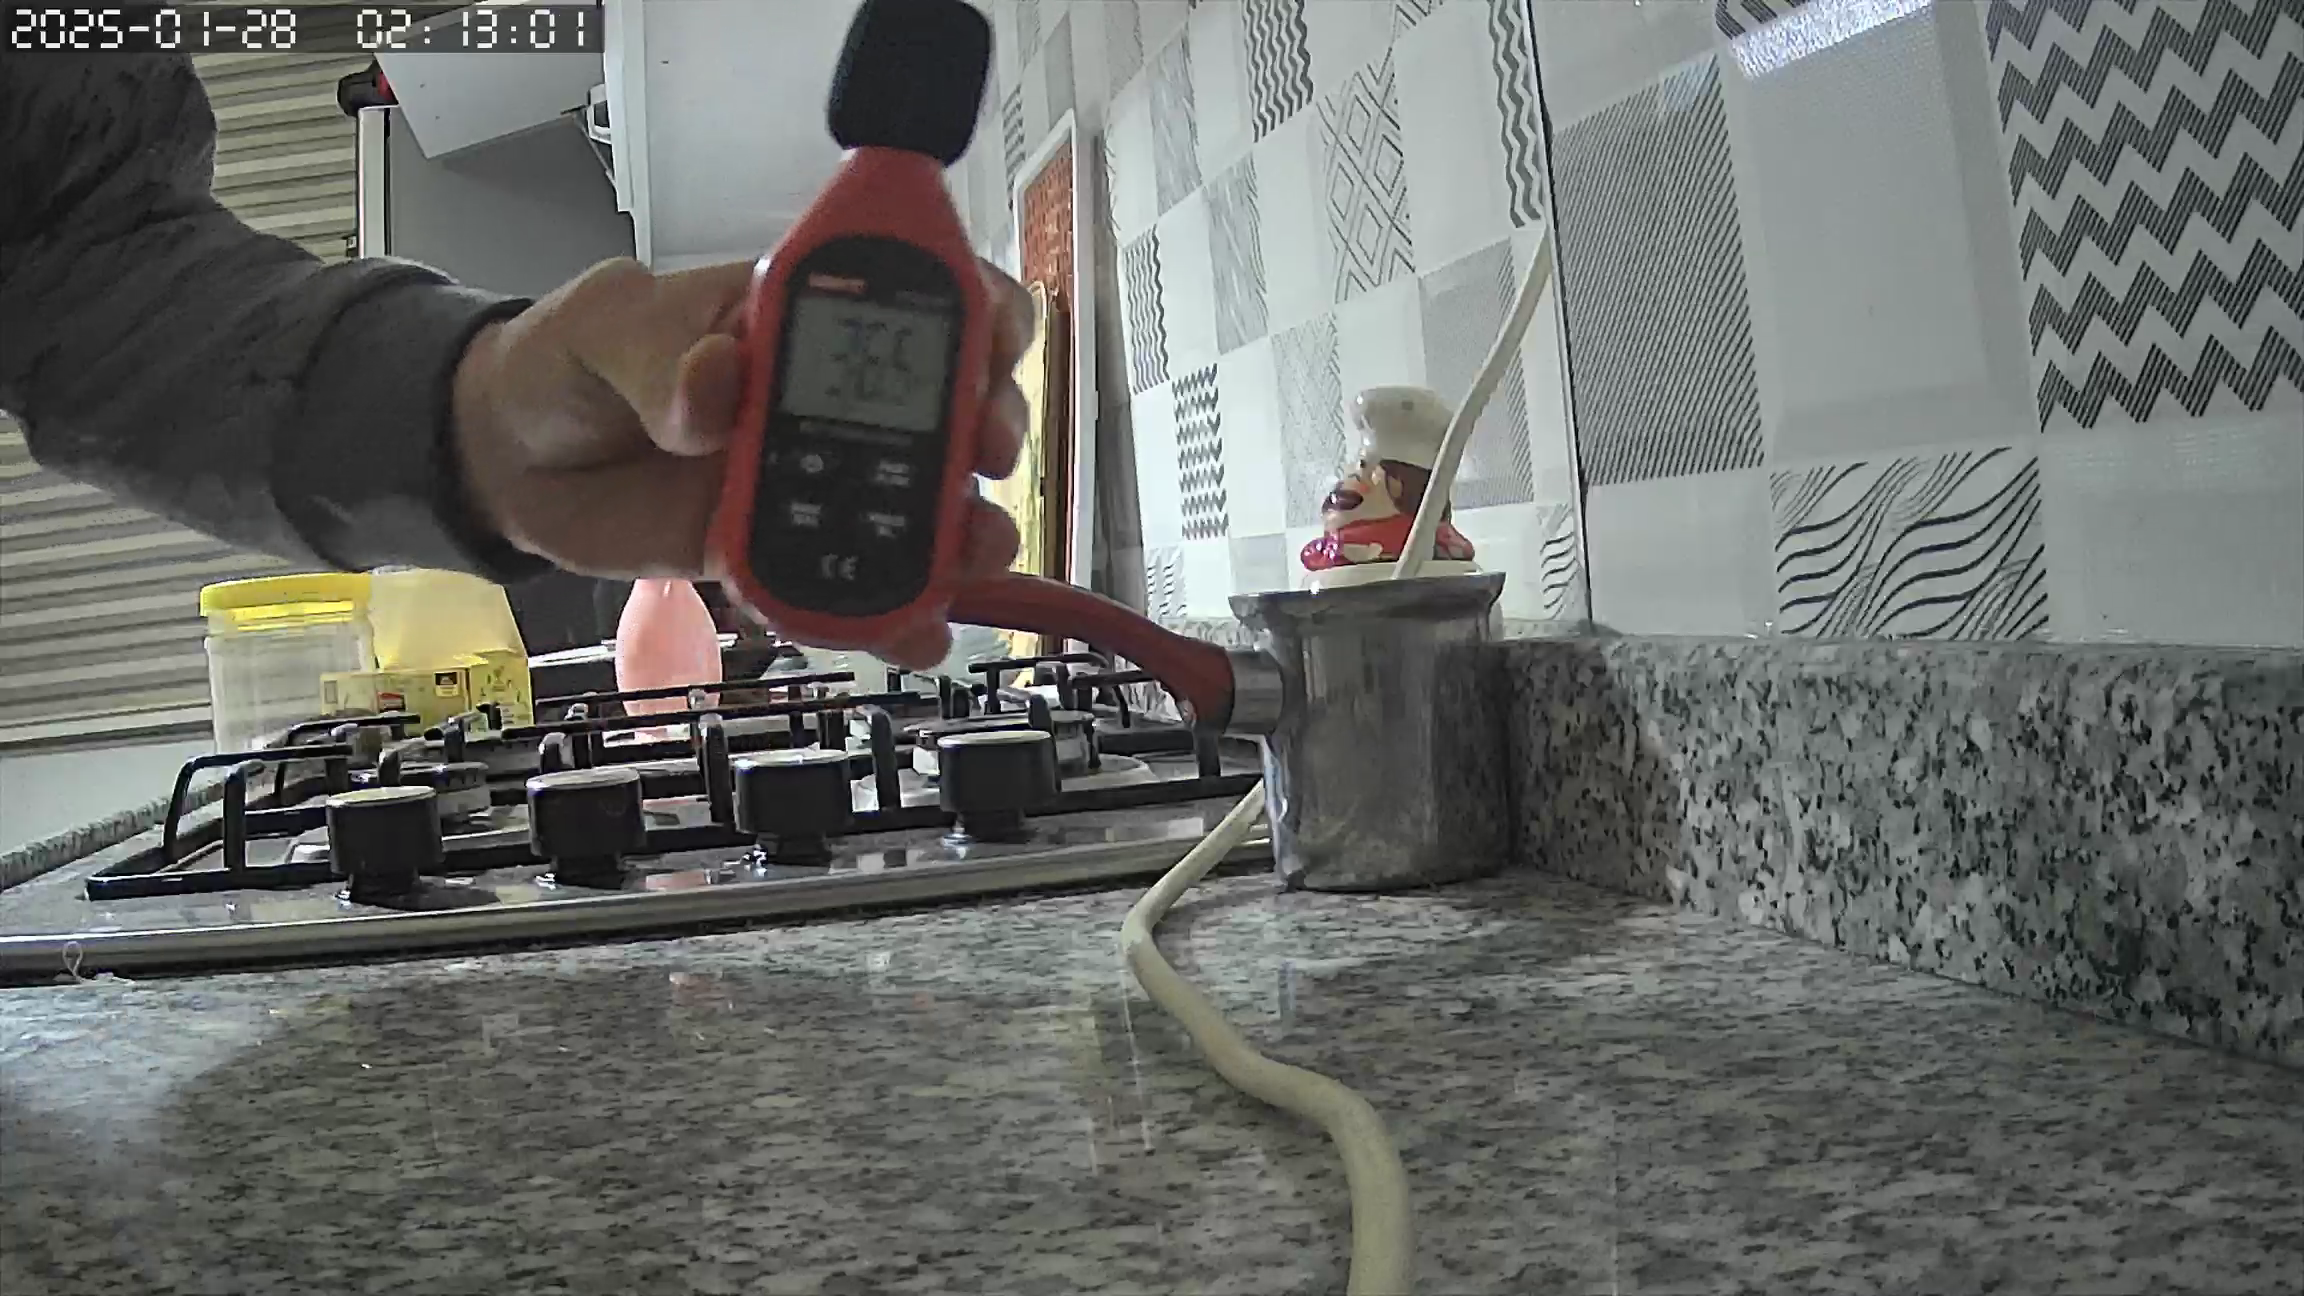screen: (783, 296, 948, 434)
